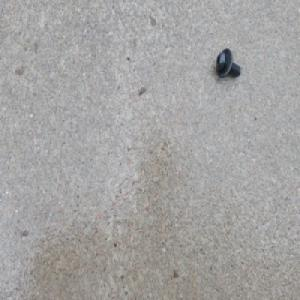BoltWasher: (214, 49, 241, 82)
